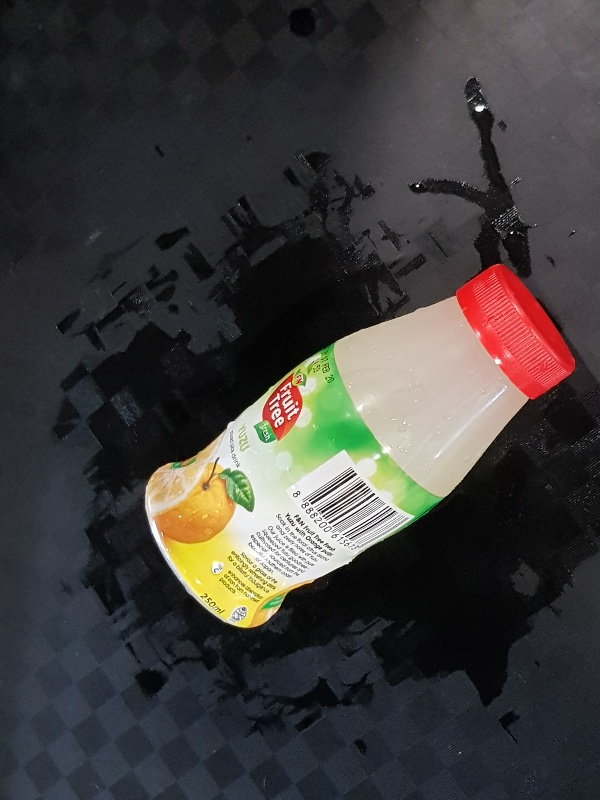Fruit Tree Yuzu Mixed Juice Drink: (143, 262, 578, 629)
